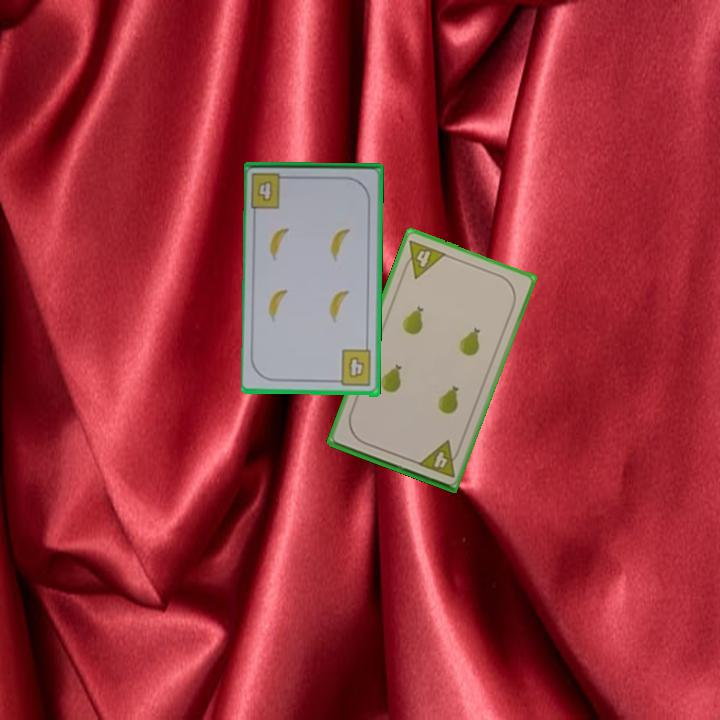4b: (331, 347, 374, 389), (254, 178, 276, 205)
4p: (398, 236, 449, 281), (414, 437, 464, 480)
